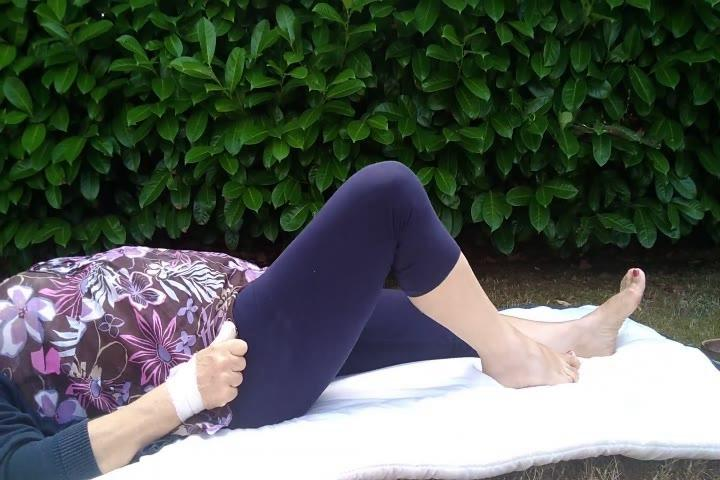lower_body: (219, 155, 653, 443)
